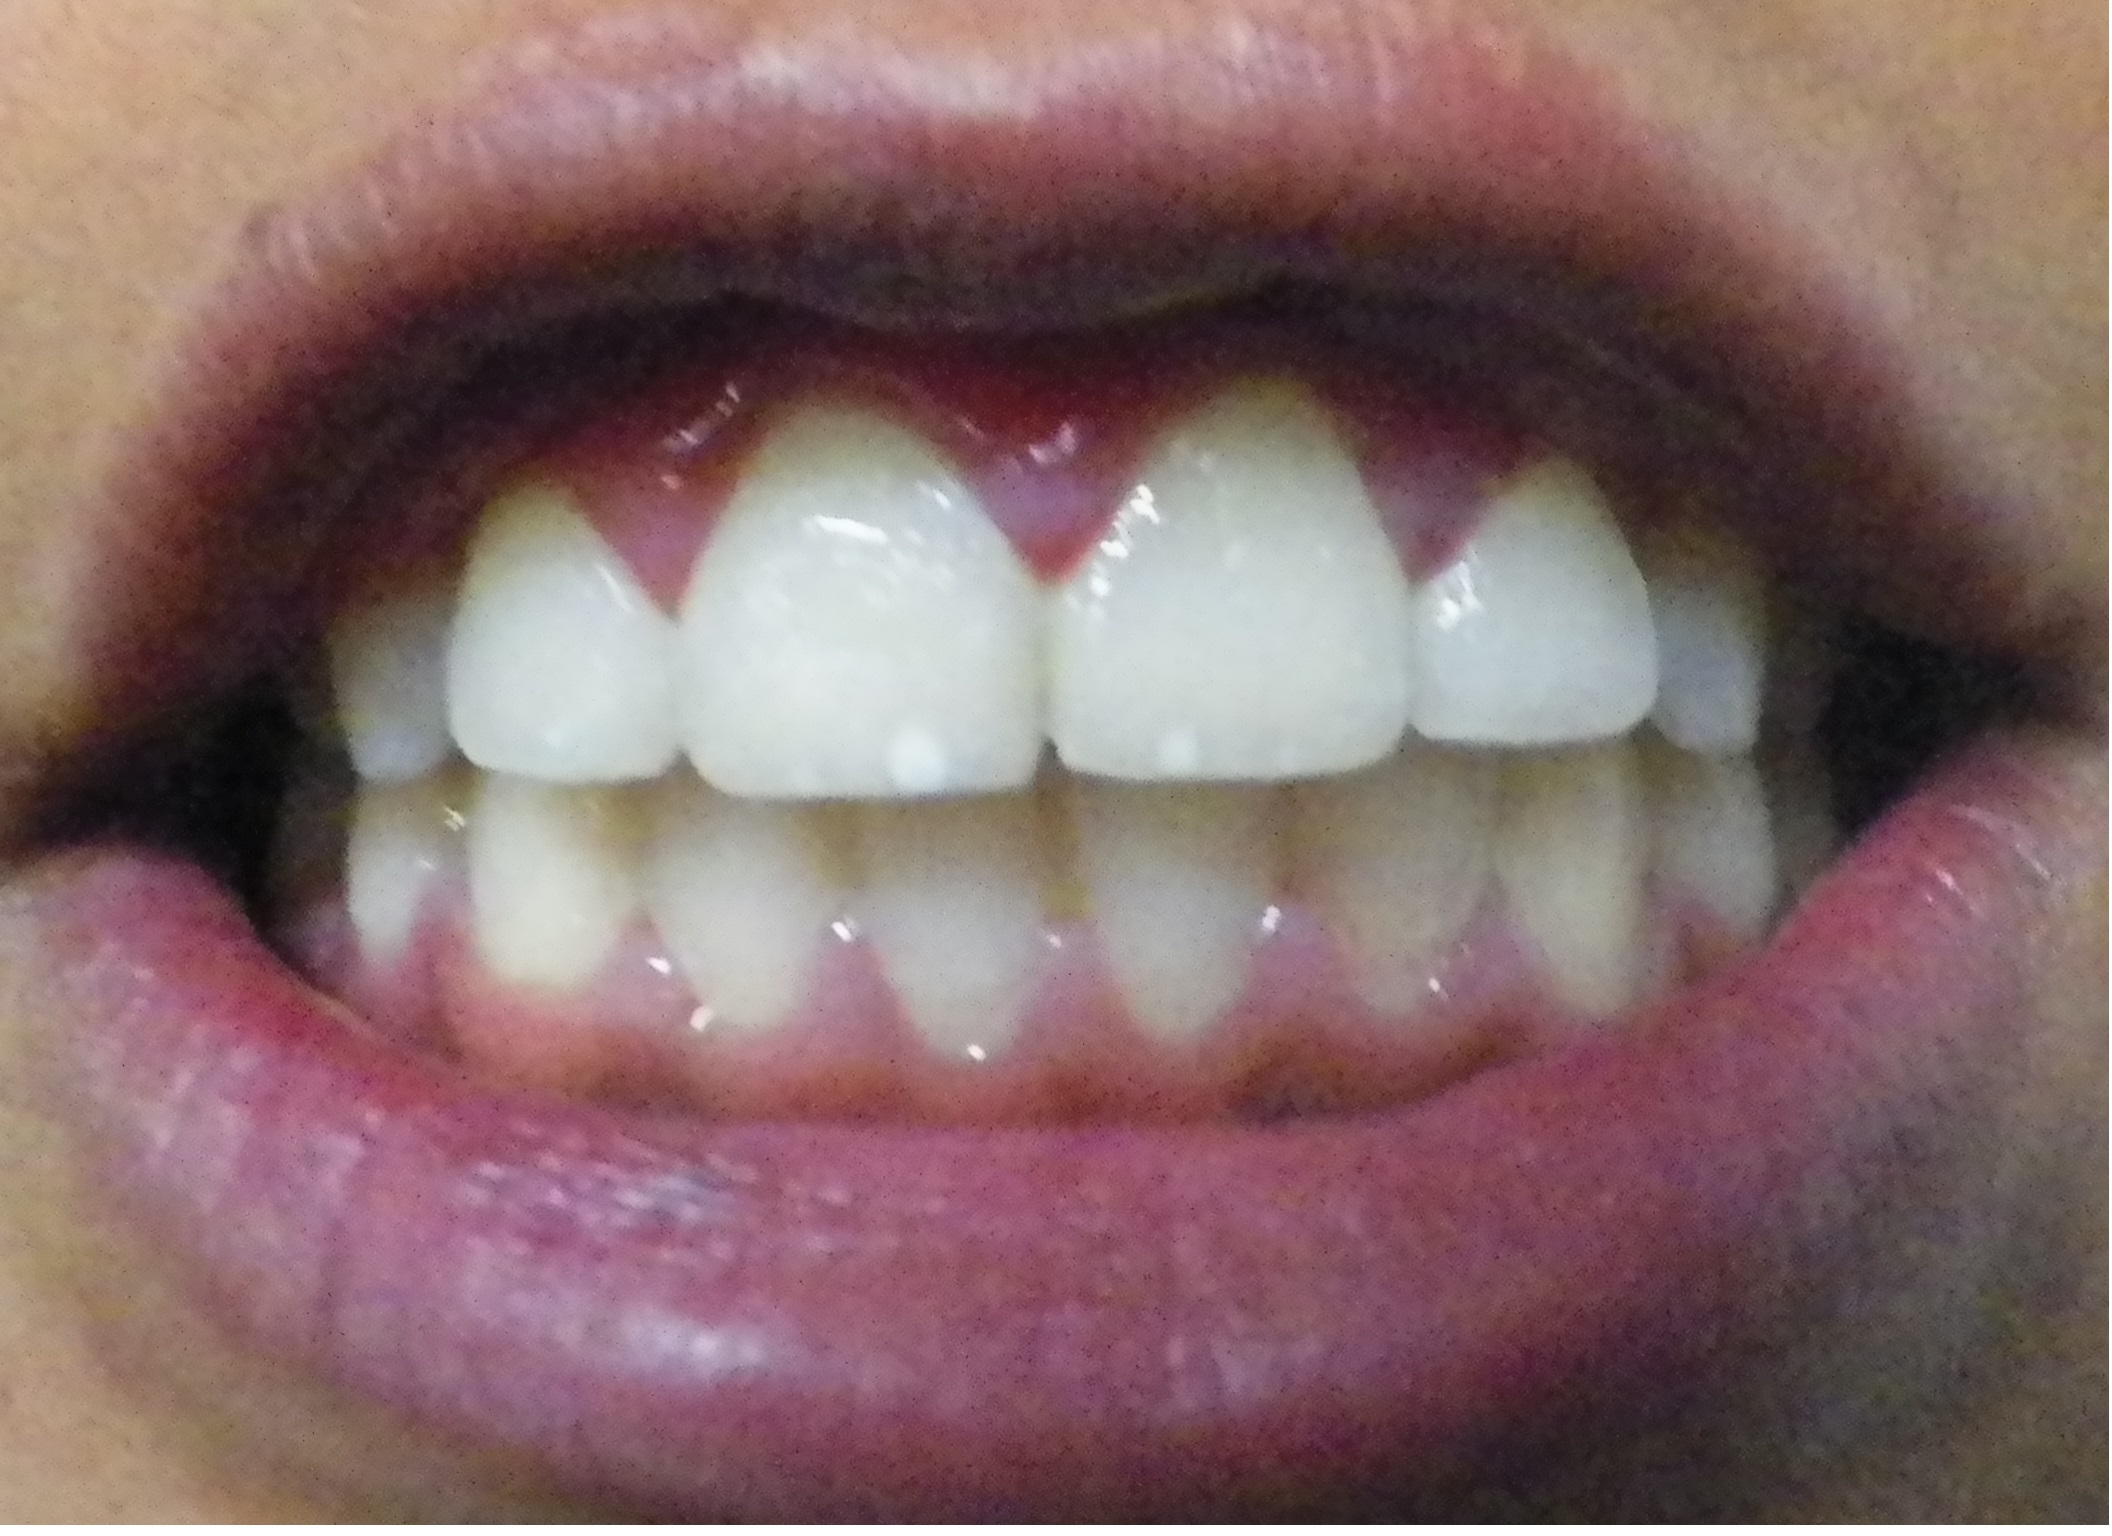boca: (303, 403, 1845, 1049)
